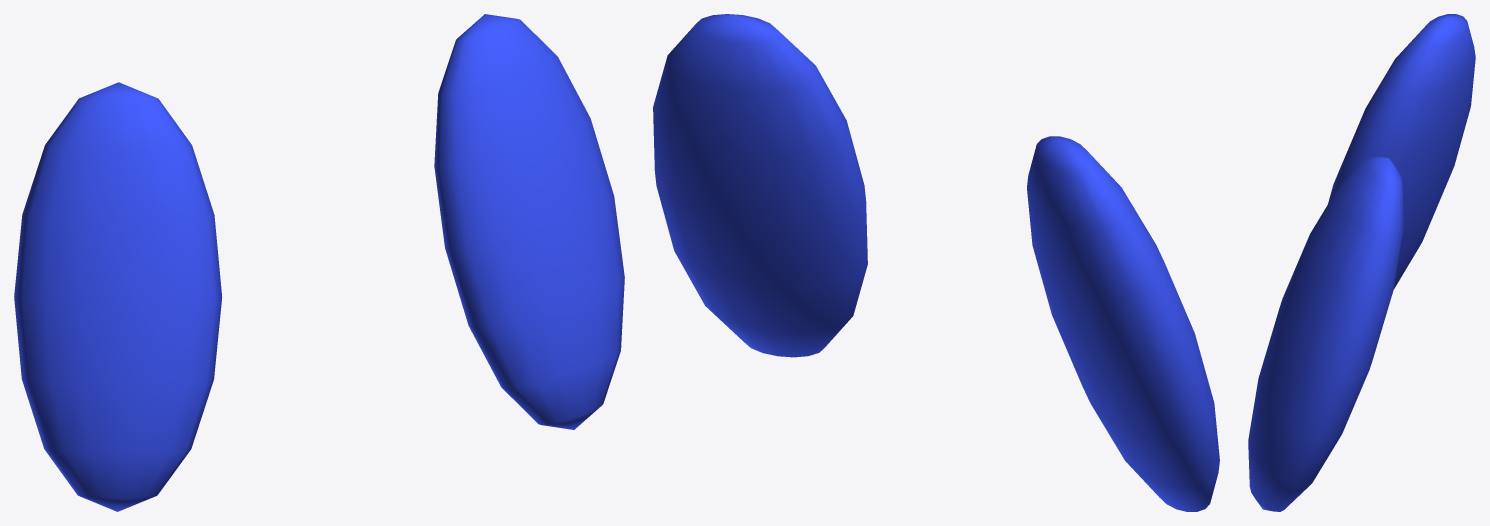
The model's file is eyes.obj.
3 views of the same model, side by side, from view 1: azimuth 30°, elevation 25°; view 2: azimuth 150°, elevation 25°; view 3: azimuth 270°, elevation 25° (orthographic). The views are drawn at different scales.
Parts seen in each view (by area): view 1: KP_KirbyEyes; view 2: KP_KirbyEyes; view 3: KP_KirbyEyes.
Boxes of the visible parts, bbox=[...] form: KP_KirbyEyes: bbox=[14, 14, 624, 511]; KP_KirbyEyes: bbox=[653, 14, 1219, 511]; KP_KirbyEyes: bbox=[1248, 14, 1475, 511].
Bounding box in the file's own units: 2 × 1.33 × 0.7778.
